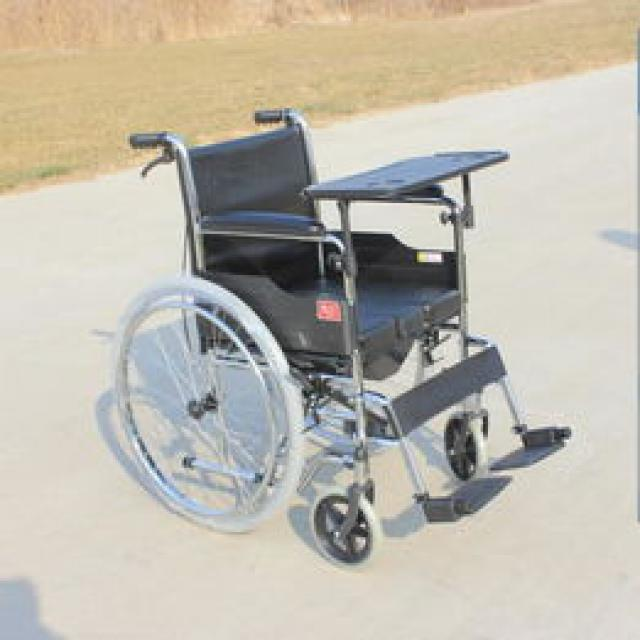wheelchair: (117, 105, 584, 570)
